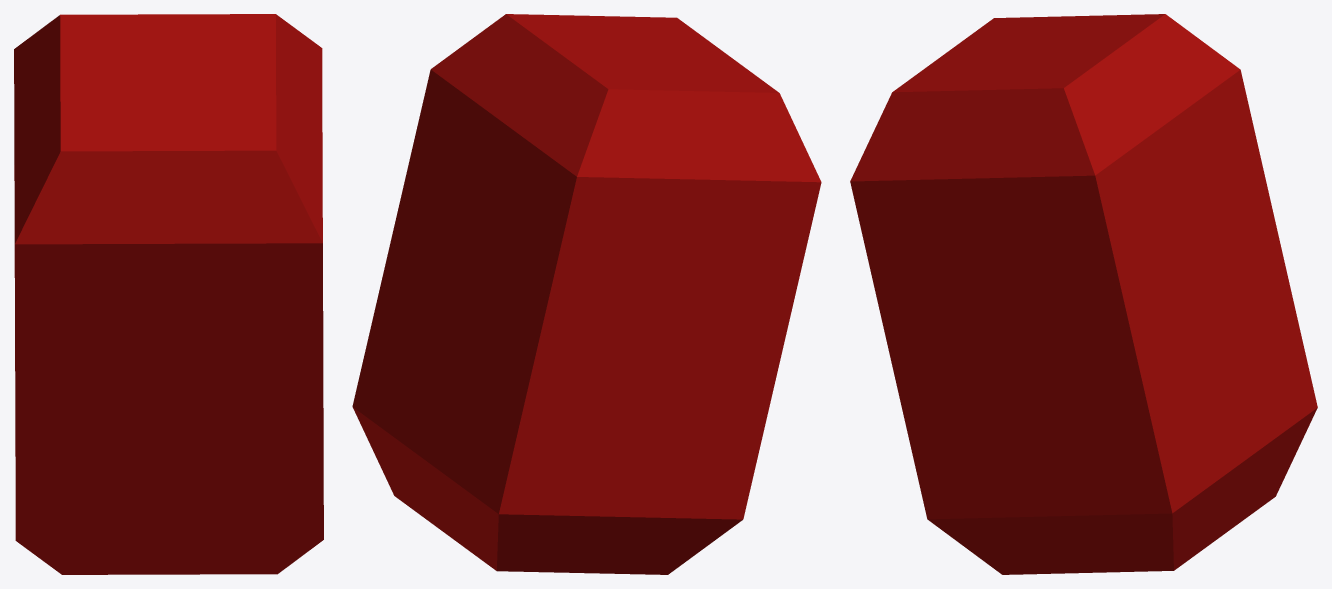
The model's file is town_jewel0015.obj.
The picture shows the model from 3 angles, left to right: view 1: azimuth 30°, elevation 25°; view 2: azimuth 150°, elevation 25°; view 3: azimuth 270°, elevation 25°; orthographic projection. The views are drawn at different scales.
Visible parts, largest first — view 1: RedJewel; view 2: RedJewel; view 3: RedJewel.
Part boxes in pixels (<box>): RedJewel: <box>14,14,323,574</box>; RedJewel: <box>352,14,821,574</box>; RedJewel: <box>850,14,1317,574</box>.
Bounding box in the file's own units: 0.9637 × 1.21 × 1.03.
